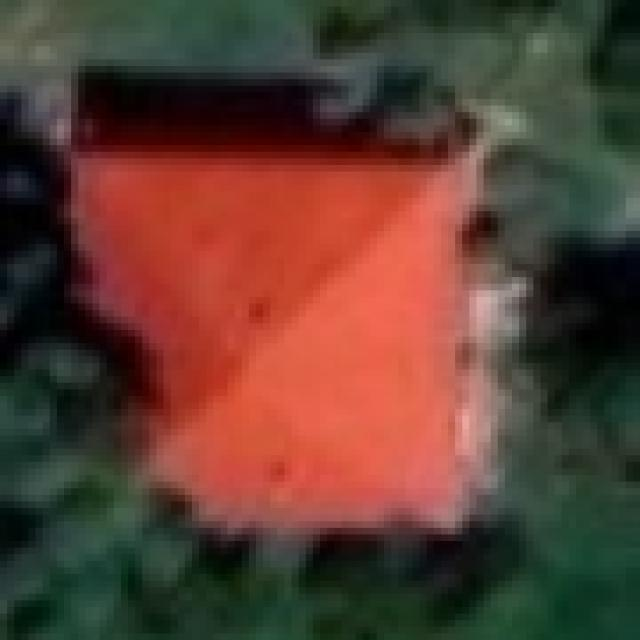Batiment: (70, 76, 478, 532)
